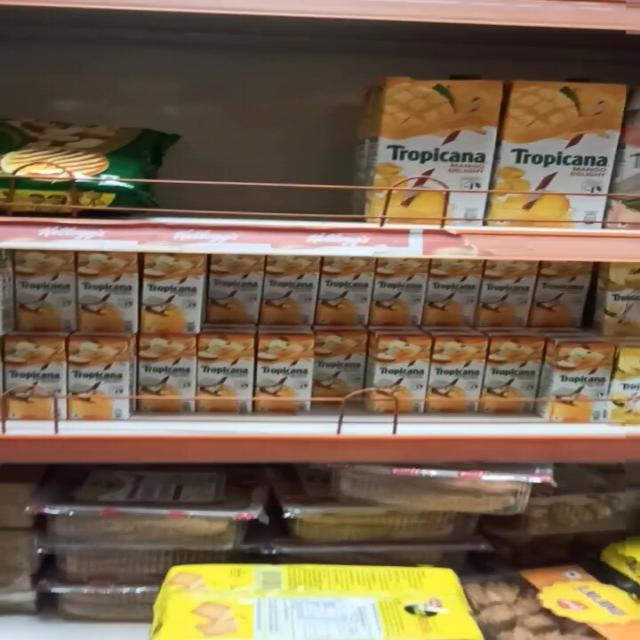Tropicana: (362, 67, 491, 221), (501, 76, 612, 226), (3, 252, 80, 328), (144, 254, 208, 341), (80, 252, 141, 336), (72, 338, 136, 418), (550, 341, 610, 426), (202, 249, 260, 333), (5, 342, 72, 414), (370, 336, 430, 415), (253, 338, 320, 404), (312, 334, 372, 404), (197, 339, 252, 415), (369, 252, 422, 330), (259, 256, 314, 331), (322, 253, 376, 329), (135, 341, 197, 407), (482, 338, 540, 408), (432, 338, 482, 416), (482, 256, 530, 331), (431, 253, 480, 325), (533, 262, 588, 326)
